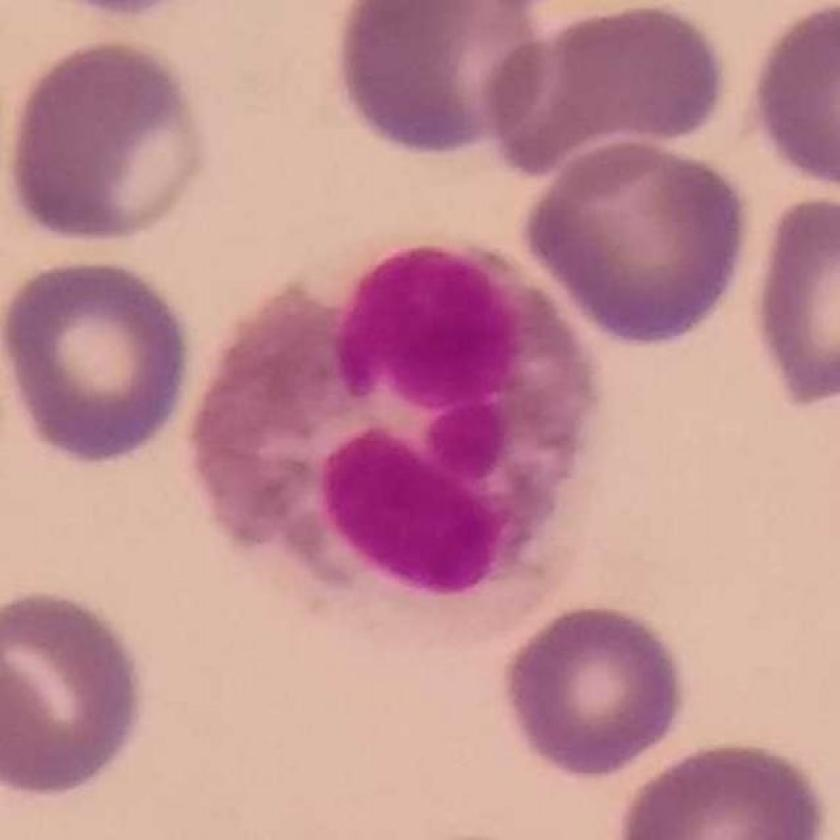eosinophil: (190, 231, 609, 647)
